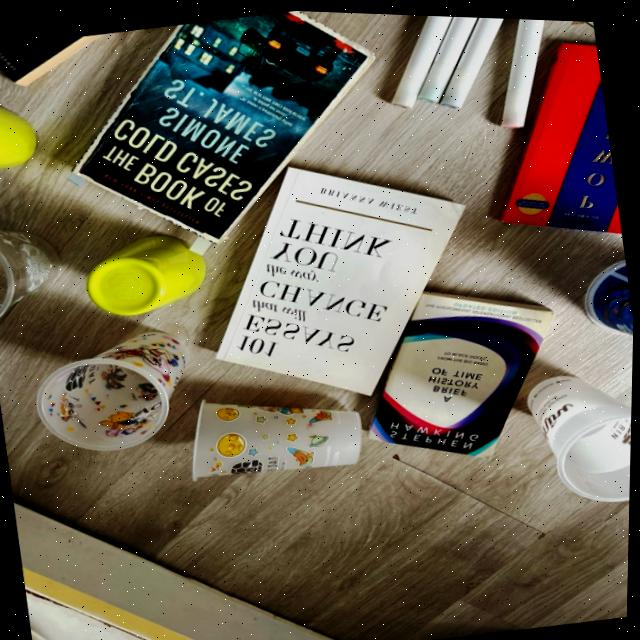Book: (70, 9, 373, 241), (219, 166, 464, 392), (373, 288, 555, 454), (503, 39, 623, 228), (0, 34, 101, 86)
HighLight Pen: (442, 14, 504, 104), (393, 12, 453, 104), (420, 13, 477, 98), (502, 15, 544, 123)
Plastic Cup: (39, 331, 187, 449), (196, 400, 364, 479), (530, 371, 633, 497), (0, 231, 59, 322), (587, 255, 635, 330)
WaterGlass: (89, 234, 207, 314), (0, 107, 36, 169)
